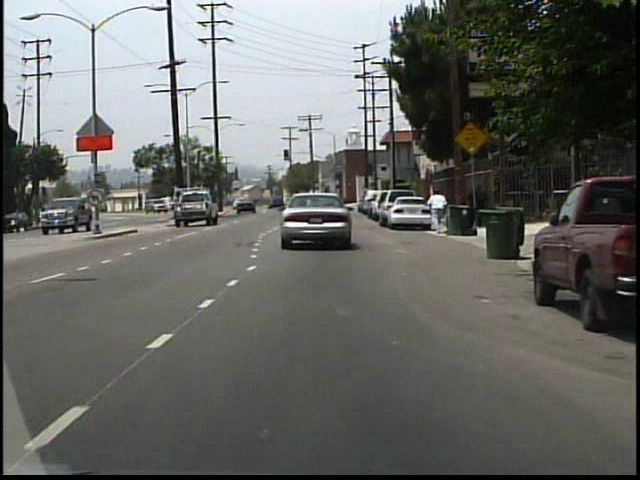person: (427, 187, 449, 235)
